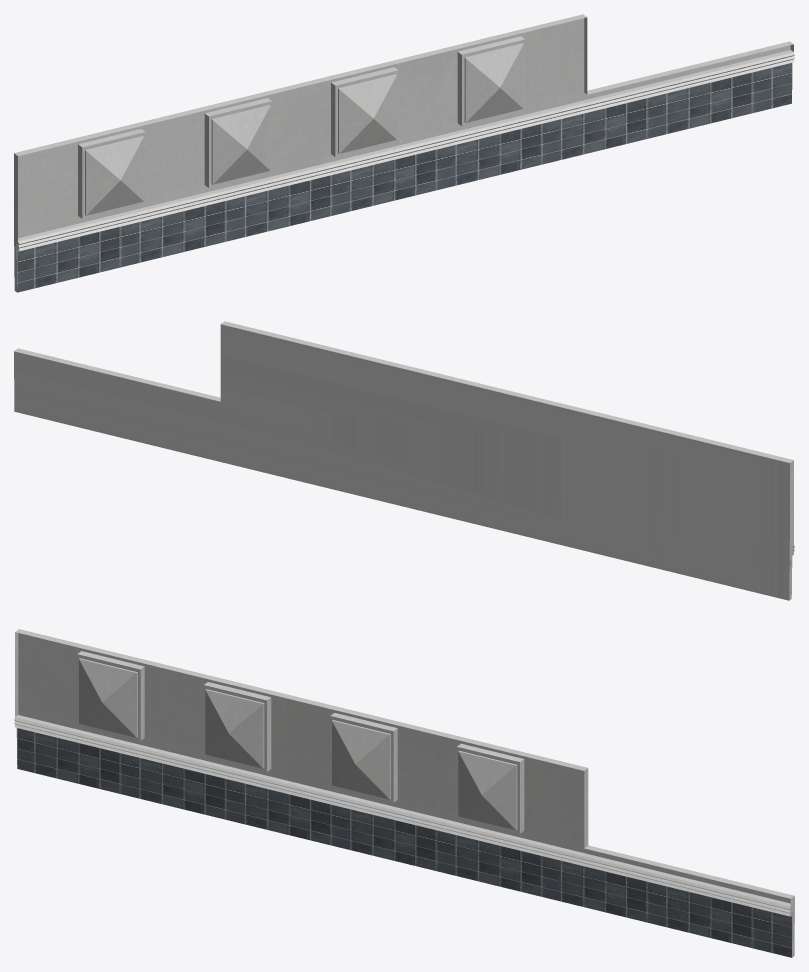
The model's file is BaconyWallFloor2.fbx.
3 renders of one model, top to bottom at view 1: azimuth 30°, elevation 25°; view 2: azimuth 150°, elevation 25°; view 3: azimuth 330°, elevation 25°, orthographic.
Visible parts, largest first — view 1: Floor2_Wall.001; view 2: Floor2_Wall.001; view 3: Floor2_Wall.001.
Boxes of the visible parts, <box> form: Floor2_Wall.001: <box>14,14,794,292</box>; Floor2_Wall.001: <box>14,321,794,600</box>; Floor2_Wall.001: <box>14,629,794,957</box>.
Bounding box in the file's own units: 454 × 77.08 × 11.98.
2 materials, 2 textured.
